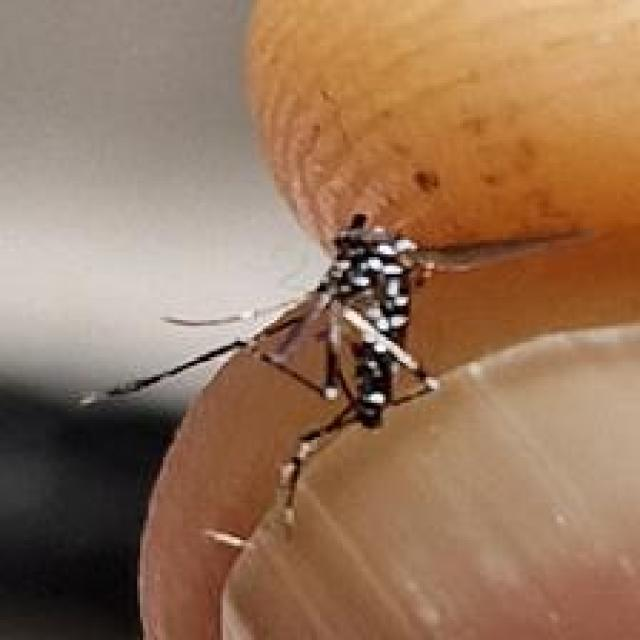Aedes albopictus: (73, 207, 593, 542)
